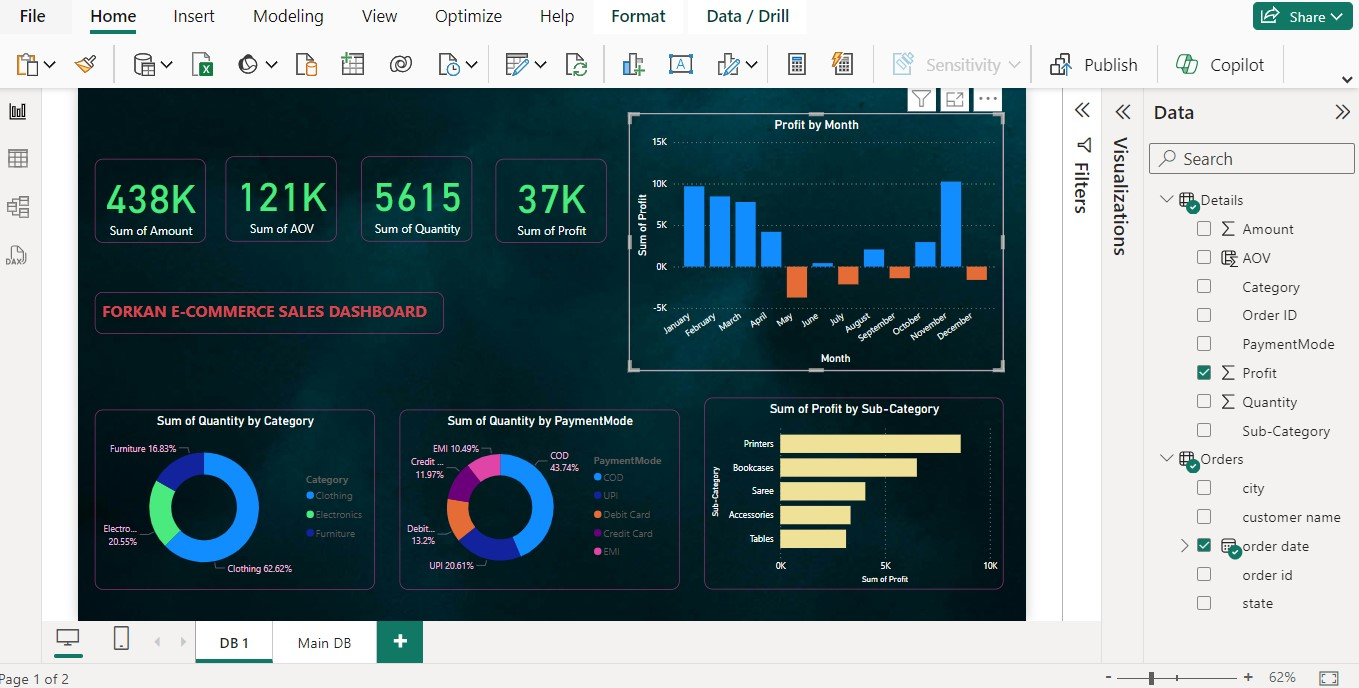

The page's visual inventory and layout, read from the dashboard file:
{"tool":"powerbi","page":{"name":"DB 1","canvas":[1280,720],"ordinal":0},"visuals":[{"type":"textbox","box":[21.9,275.9,471.4,56.6],"z":0},{"type":"columnChart","title":"Profit by Month","fields":{"Category":["Orders.order date.Variation.Date Hierarchy.Month"],"Y":["Sum(Details.Profit)"]},"box":[743.7,34.7,506.2,347.2],"z":1000},{"type":"barChart","fields":{"Category":["Details.Sub-Category"],"Y":["Sum(Details.Profit)"]},"box":[846,418.4,403.8,259.5],"z":2000},{"type":"donutChart","fields":{"Category":["Details.Category"],"Y":["Sum(Details.Quantity)"]},"box":[21.9,434.9,378.2,243],"z":3000},{"type":"donutChart","fields":{"Y":["Sum(Details.Quantity)"],"Category":["Details.PaymentMode"]},"box":[434.9,434.9,378.2,243],"z":4000},{"type":"card","fields":{"Values":["Sum(Details.Amount)"]},"box":[21.9,95,149.8,113.3],"z":5000},{"type":"card","fields":{"Values":["Sum(Details.Quantity)"]},"box":[381.9,93.2,149.8,115.1],"z":6000},{"type":"card","fields":{"Values":["Sum(Details.Profit)"]},"box":[564.6,95,149.8,113.3],"z":7000},{"type":"card","fields":{"Values":["Sum(Details.AOV)"]},"box":[199.2,93.2,149.8,115.1],"z":8000}]}

Visuals, with their boxes on the page's 1280x720 design canvas (x1, y1, x2, y2). These are canvas units, not pixel positions in the 1359x688 screenshot, which may show the page scaled, cropped or inside an application window:
textbox: bbox(22, 276, 493, 332)
"Profit by Month" columnChart: bbox(744, 35, 1250, 382)
barChart - Details.Sub-Category x Sum(Details.Profit): bbox(846, 418, 1250, 678)
donutChart - Details.Category x Sum(Details.Quantity): bbox(22, 435, 400, 678)
donutChart - Sum(Details.Quantity) x Details.PaymentMode: bbox(435, 435, 813, 678)
card - Sum(Details.Amount): bbox(22, 95, 172, 208)
card - Sum(Details.Quantity): bbox(382, 93, 532, 208)
card - Sum(Details.Profit): bbox(565, 95, 714, 208)
card - Sum(Details.AOV): bbox(199, 93, 349, 208)
